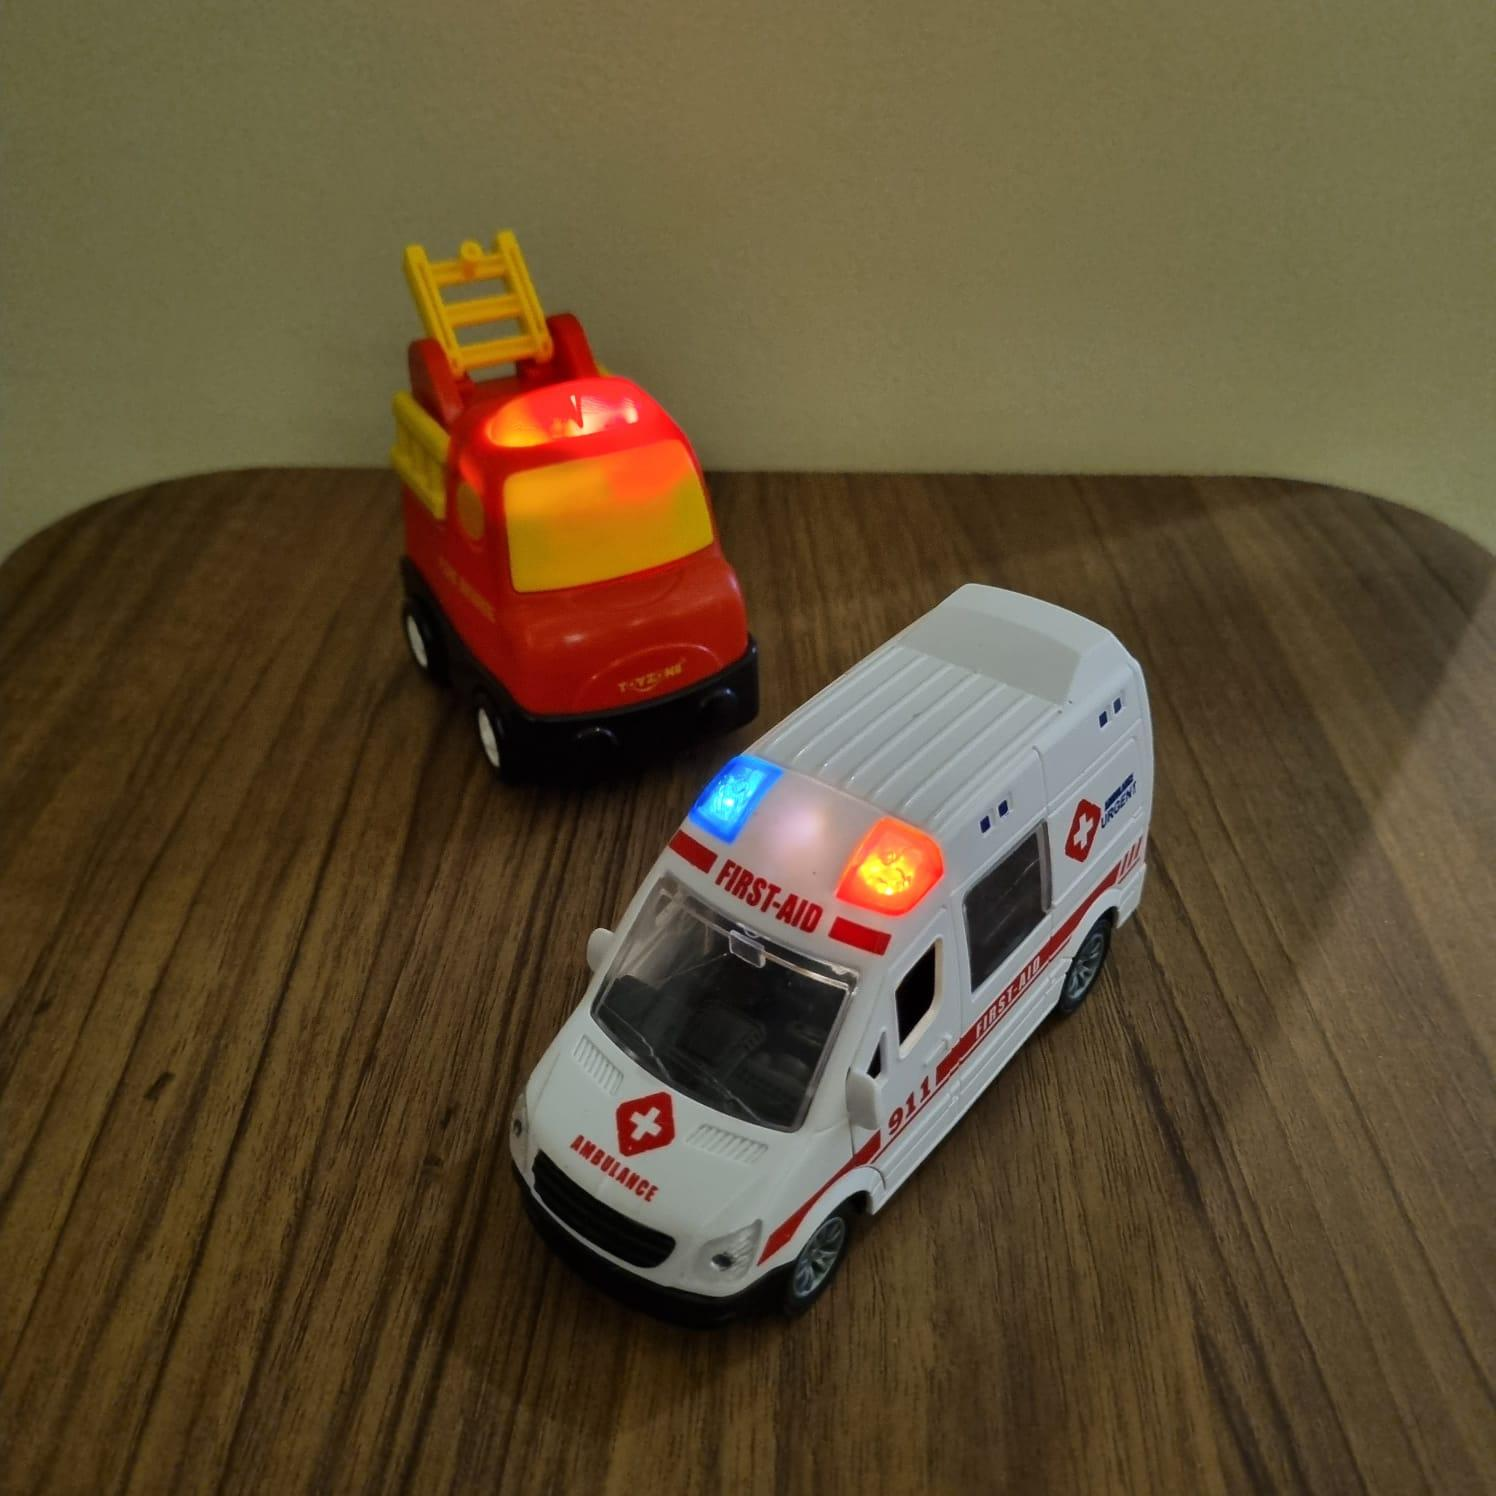ambulance_on: (510, 577, 1152, 1318)
firetruck_on: (393, 227, 764, 781)
